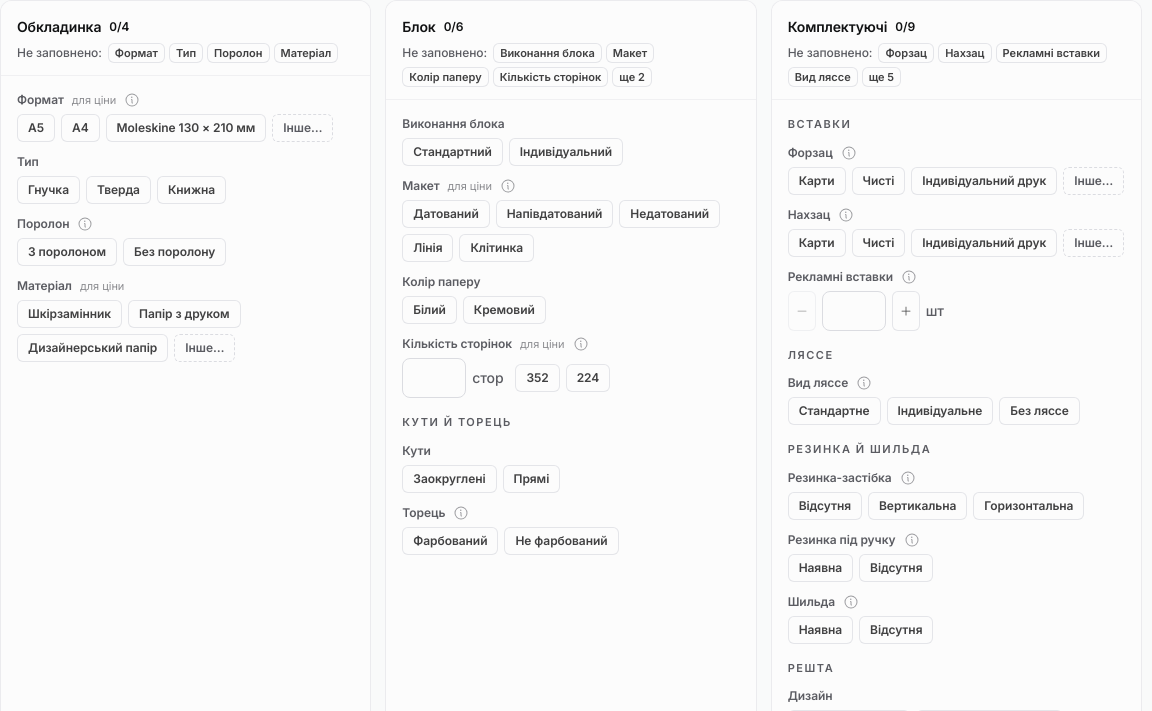
кнопки замість підказок › пресети й крок числових полів ставлять значення
The image size is (1152, 711).
Click the button "224": (588, 378) [566, 364, 610, 392]
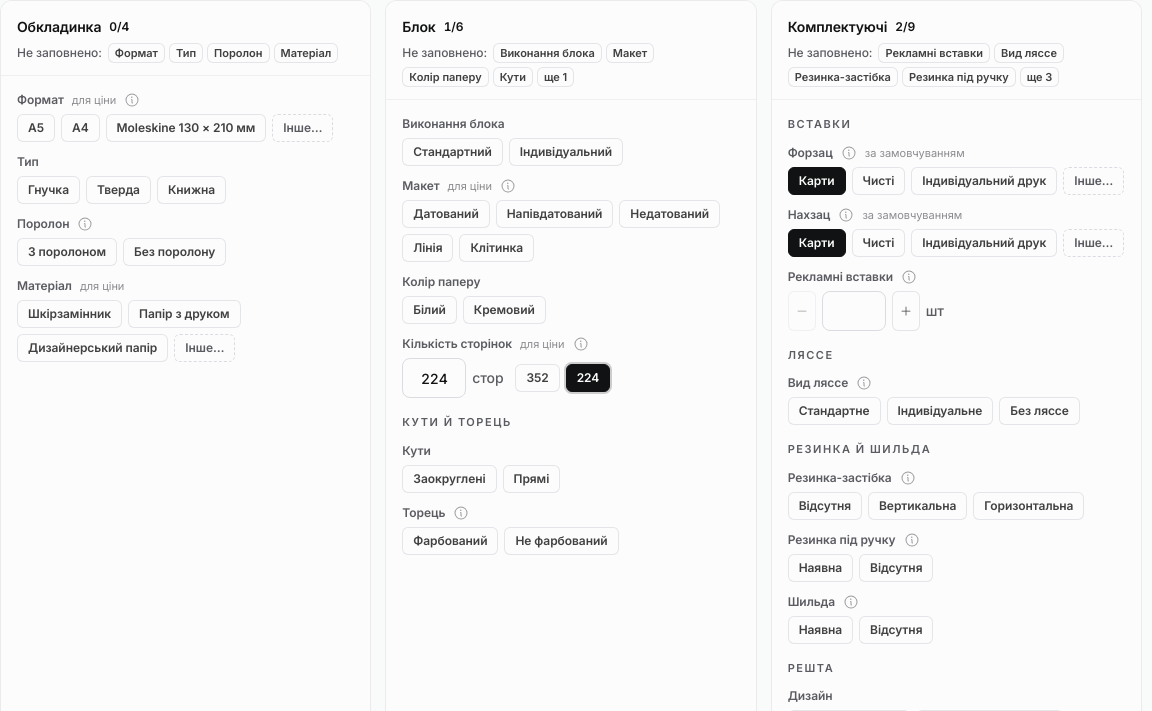
Result: the field named "Кількість сторінок" holds "224" at [402, 358, 466, 398]
Click the button "352": (538, 378) [515, 364, 560, 392]
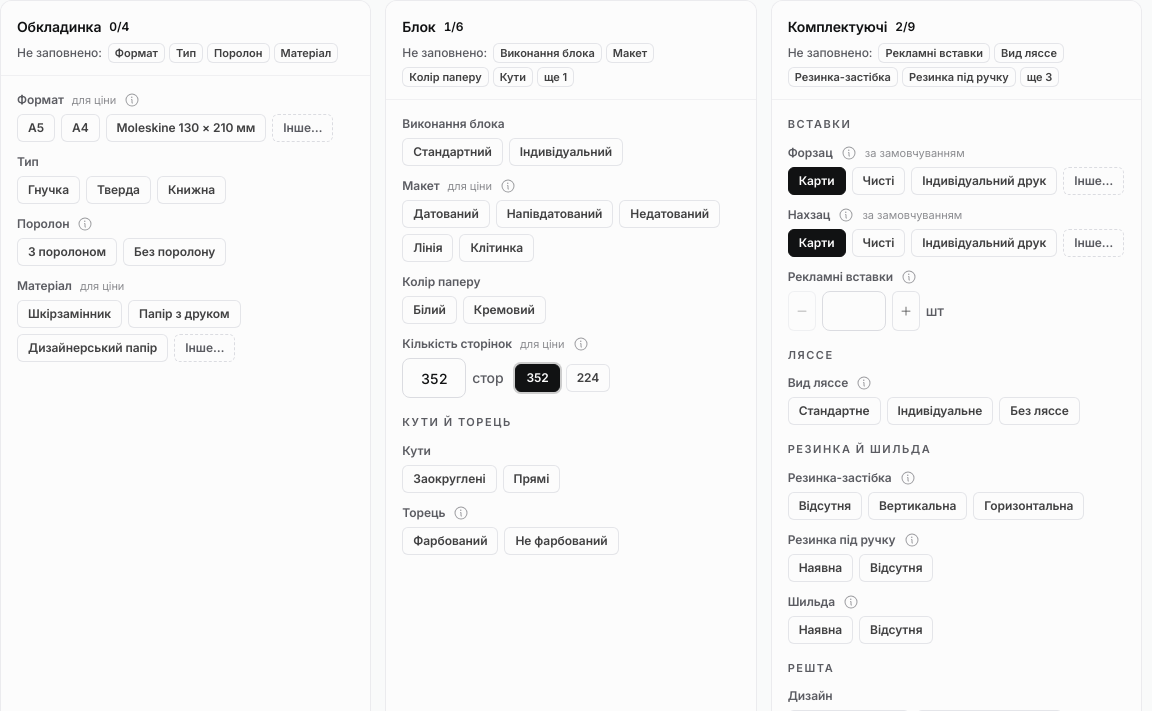
Result: the field named "Кількість сторінок" holds "352" at [402, 358, 466, 398]
Click the button named "Рекламні вставки: більше на 2": (906, 310) [892, 290, 920, 330]
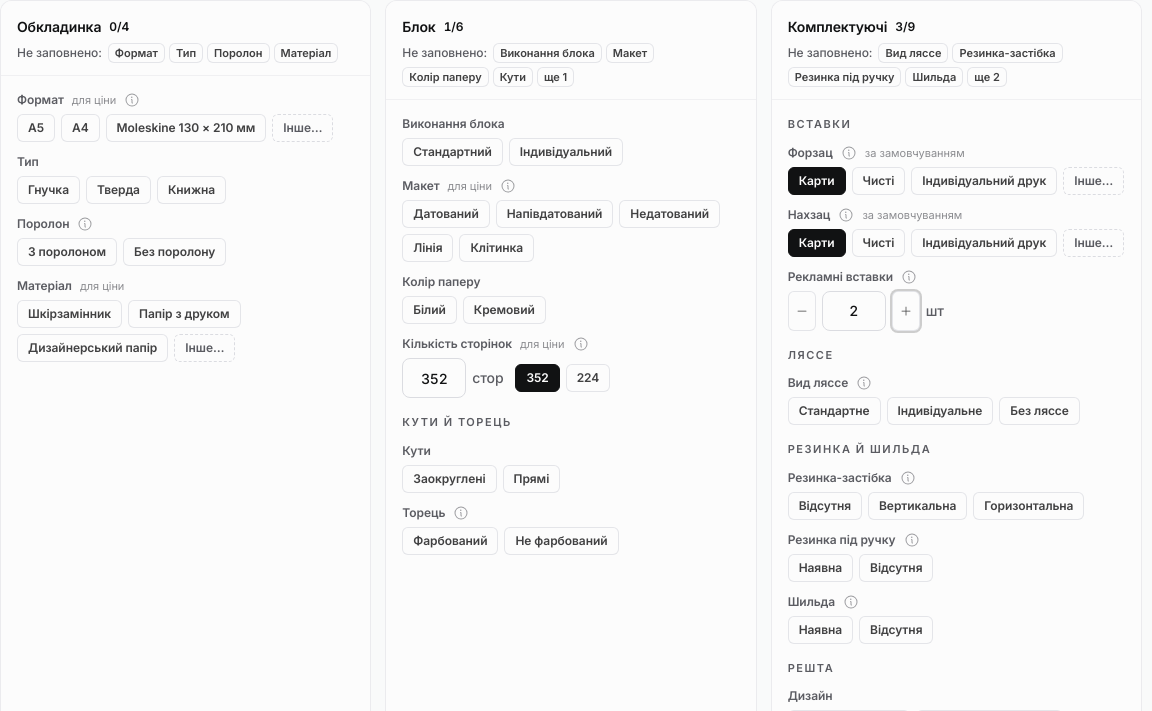
Click the button named "Рекламні вставки: більше на 2": (906, 310) [892, 290, 920, 330]
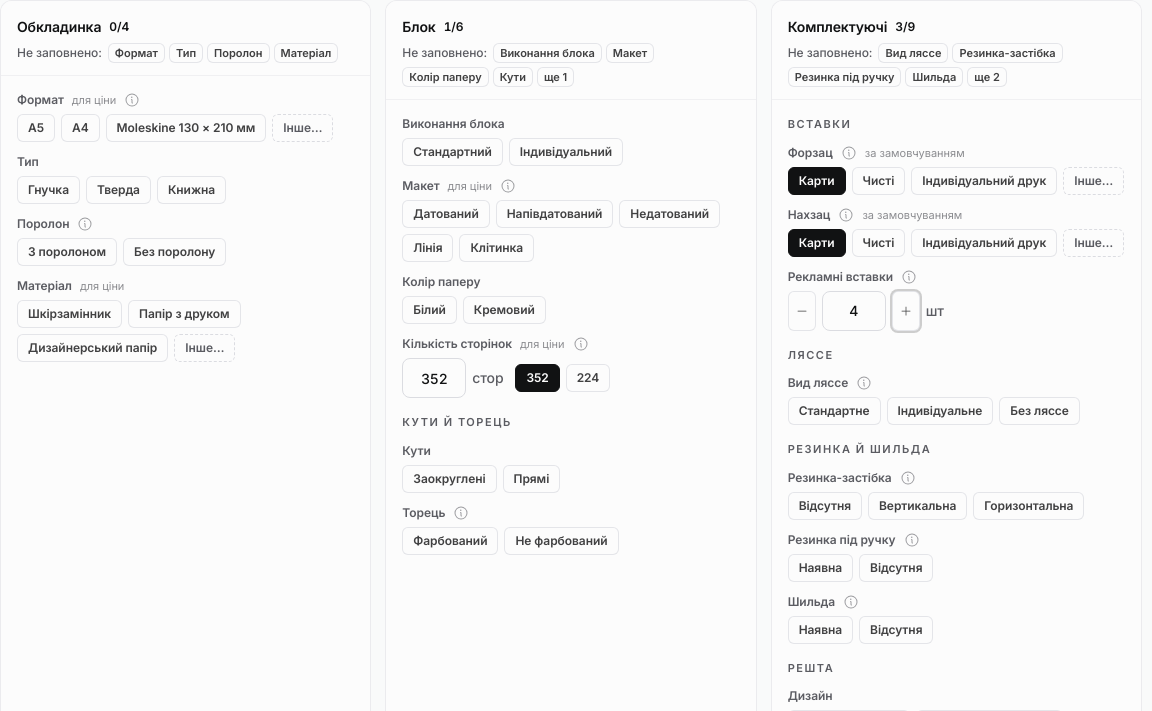
Result: the field named "Рекламні вставки" holds "4" at [822, 290, 886, 330]
Click the button named "Рекламні вставки: менше на 2": (802, 310) [788, 290, 816, 330]
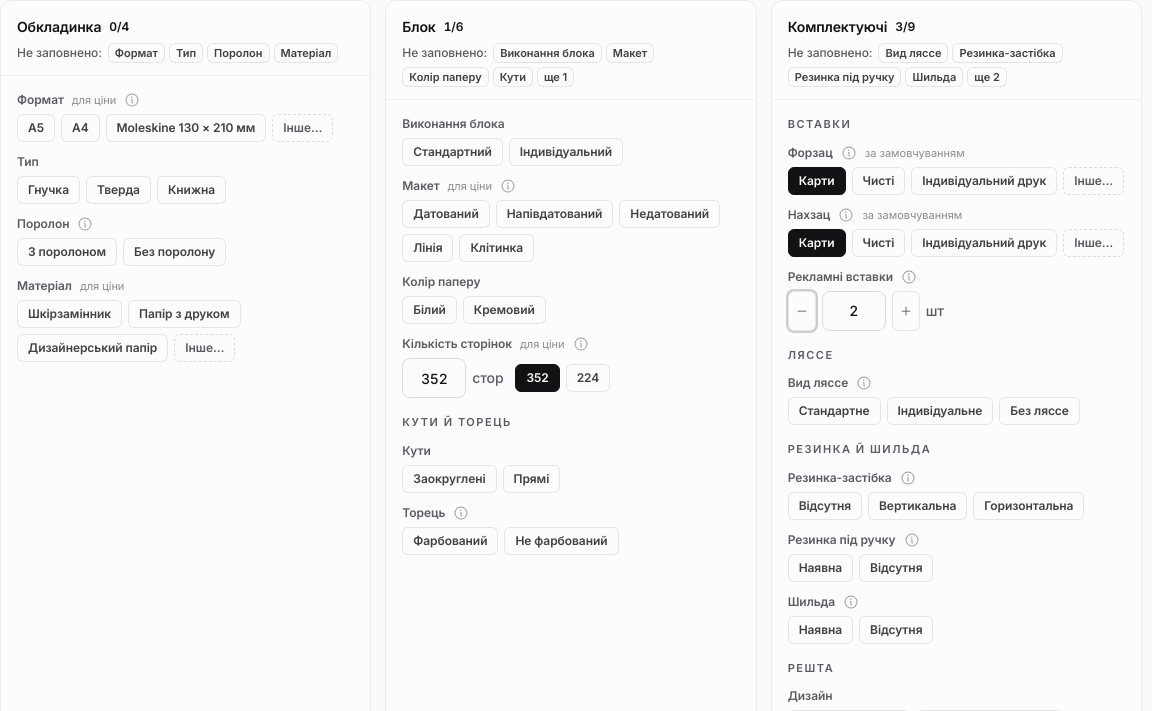
Result: the field named "Рекламні вставки" holds "2" at [822, 290, 886, 330]
